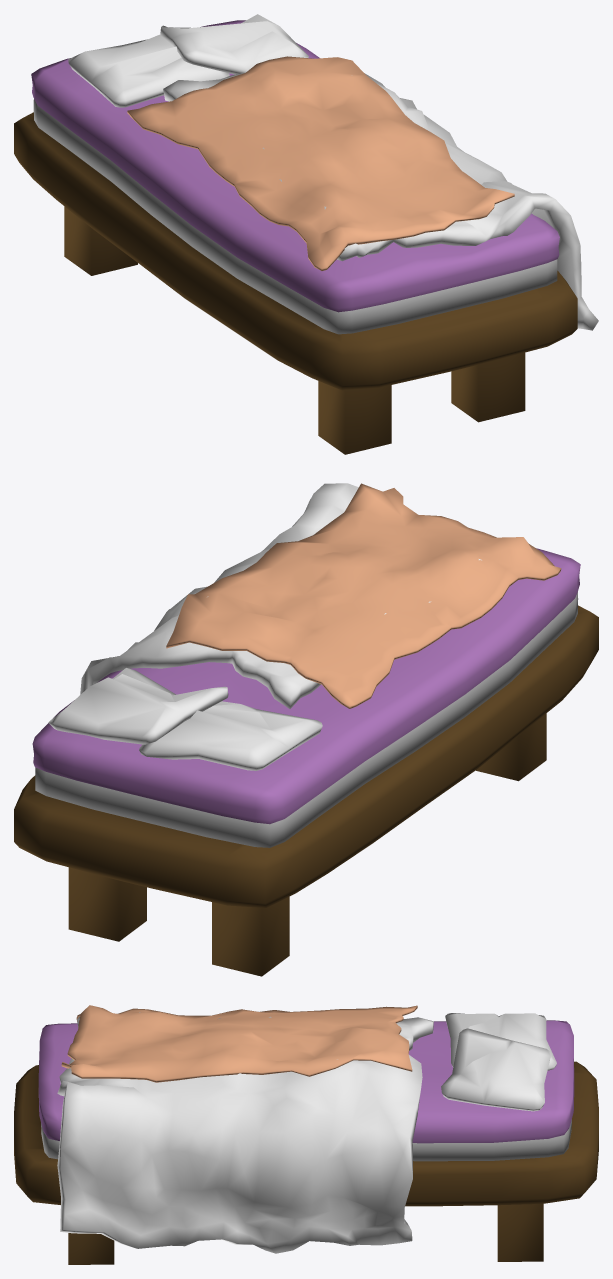
The model's file is Łóżko.fbx.
3 renders of one model, top to bottom at view 1: azimuth 30°, elevation 25°; view 2: azimuth 150°, elevation 25°; view 3: azimuth 270°, elevation 25°, orthographic. The views are drawn at different scales.
Parts seen in each view (by area): view 1: prześcieradło, koc, Poduszki, pościel; view 2: prześcieradło, koc, Poduszki, pościel; view 3: pościel, prześcieradło, koc, Poduszki.
Boxes of the visible parts, x1=… form: prześcieradło: x1=14, y1=20, x2=577, y2=454; koc: x1=127, y1=56, x2=514, y2=270; Poduszki: x1=68, y1=14, x2=308, y2=107; pościel: x1=163, y1=73, x2=598, y2=330; prześcieradło: x1=14, y1=548, x2=598, y2=976; koc: x1=166, y1=483, x2=561, y2=708; Poduszki: x1=48, y1=668, x2=322, y2=770; pościel: x1=80, y1=483, x2=481, y2=708; pościel: x1=57, y1=1012, x2=433, y2=1253; prześcieradło: x1=14, y1=1020, x2=598, y2=1264; koc: x1=61, y1=1005, x2=417, y2=1082; Poduszki: x1=441, y1=1013, x2=556, y2=1111.
Bounding box in the file's own units: 211 × 156 × 409.
